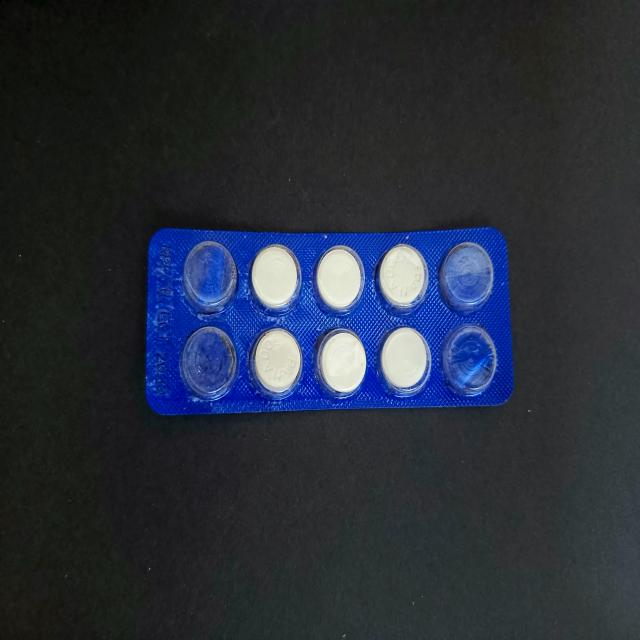defect: (178, 323, 240, 404), (181, 237, 240, 317), (439, 322, 499, 398), (436, 240, 495, 316)
